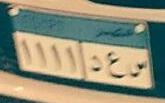1: (49, 44, 64, 73), (64, 45, 78, 75), (35, 41, 48, 71), (21, 39, 33, 69)
ain: (105, 50, 126, 83)
daal: (88, 54, 104, 76)
seen: (128, 58, 148, 81)
